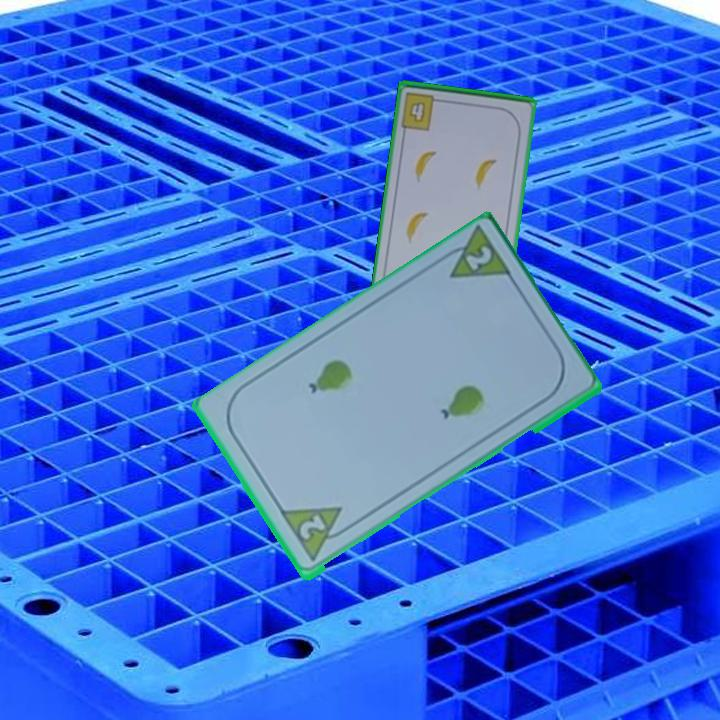2p: (295, 511, 329, 544), (461, 243, 495, 275)
4b: (398, 89, 446, 133)
